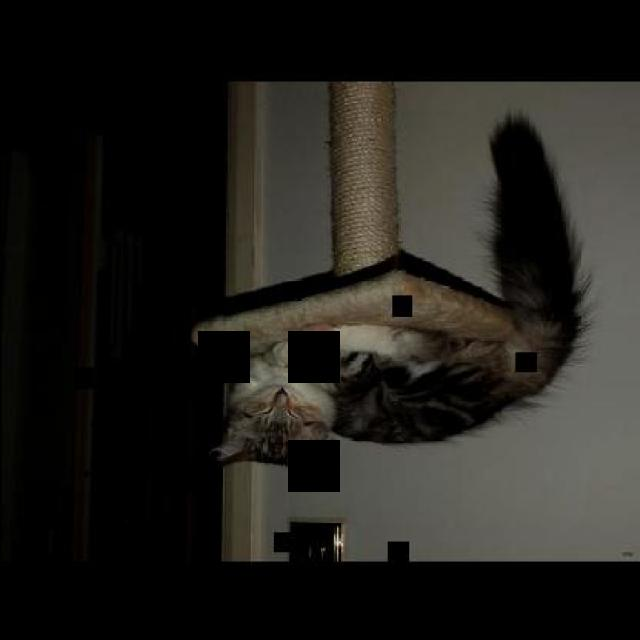unauthorized: (206, 108, 592, 475)
